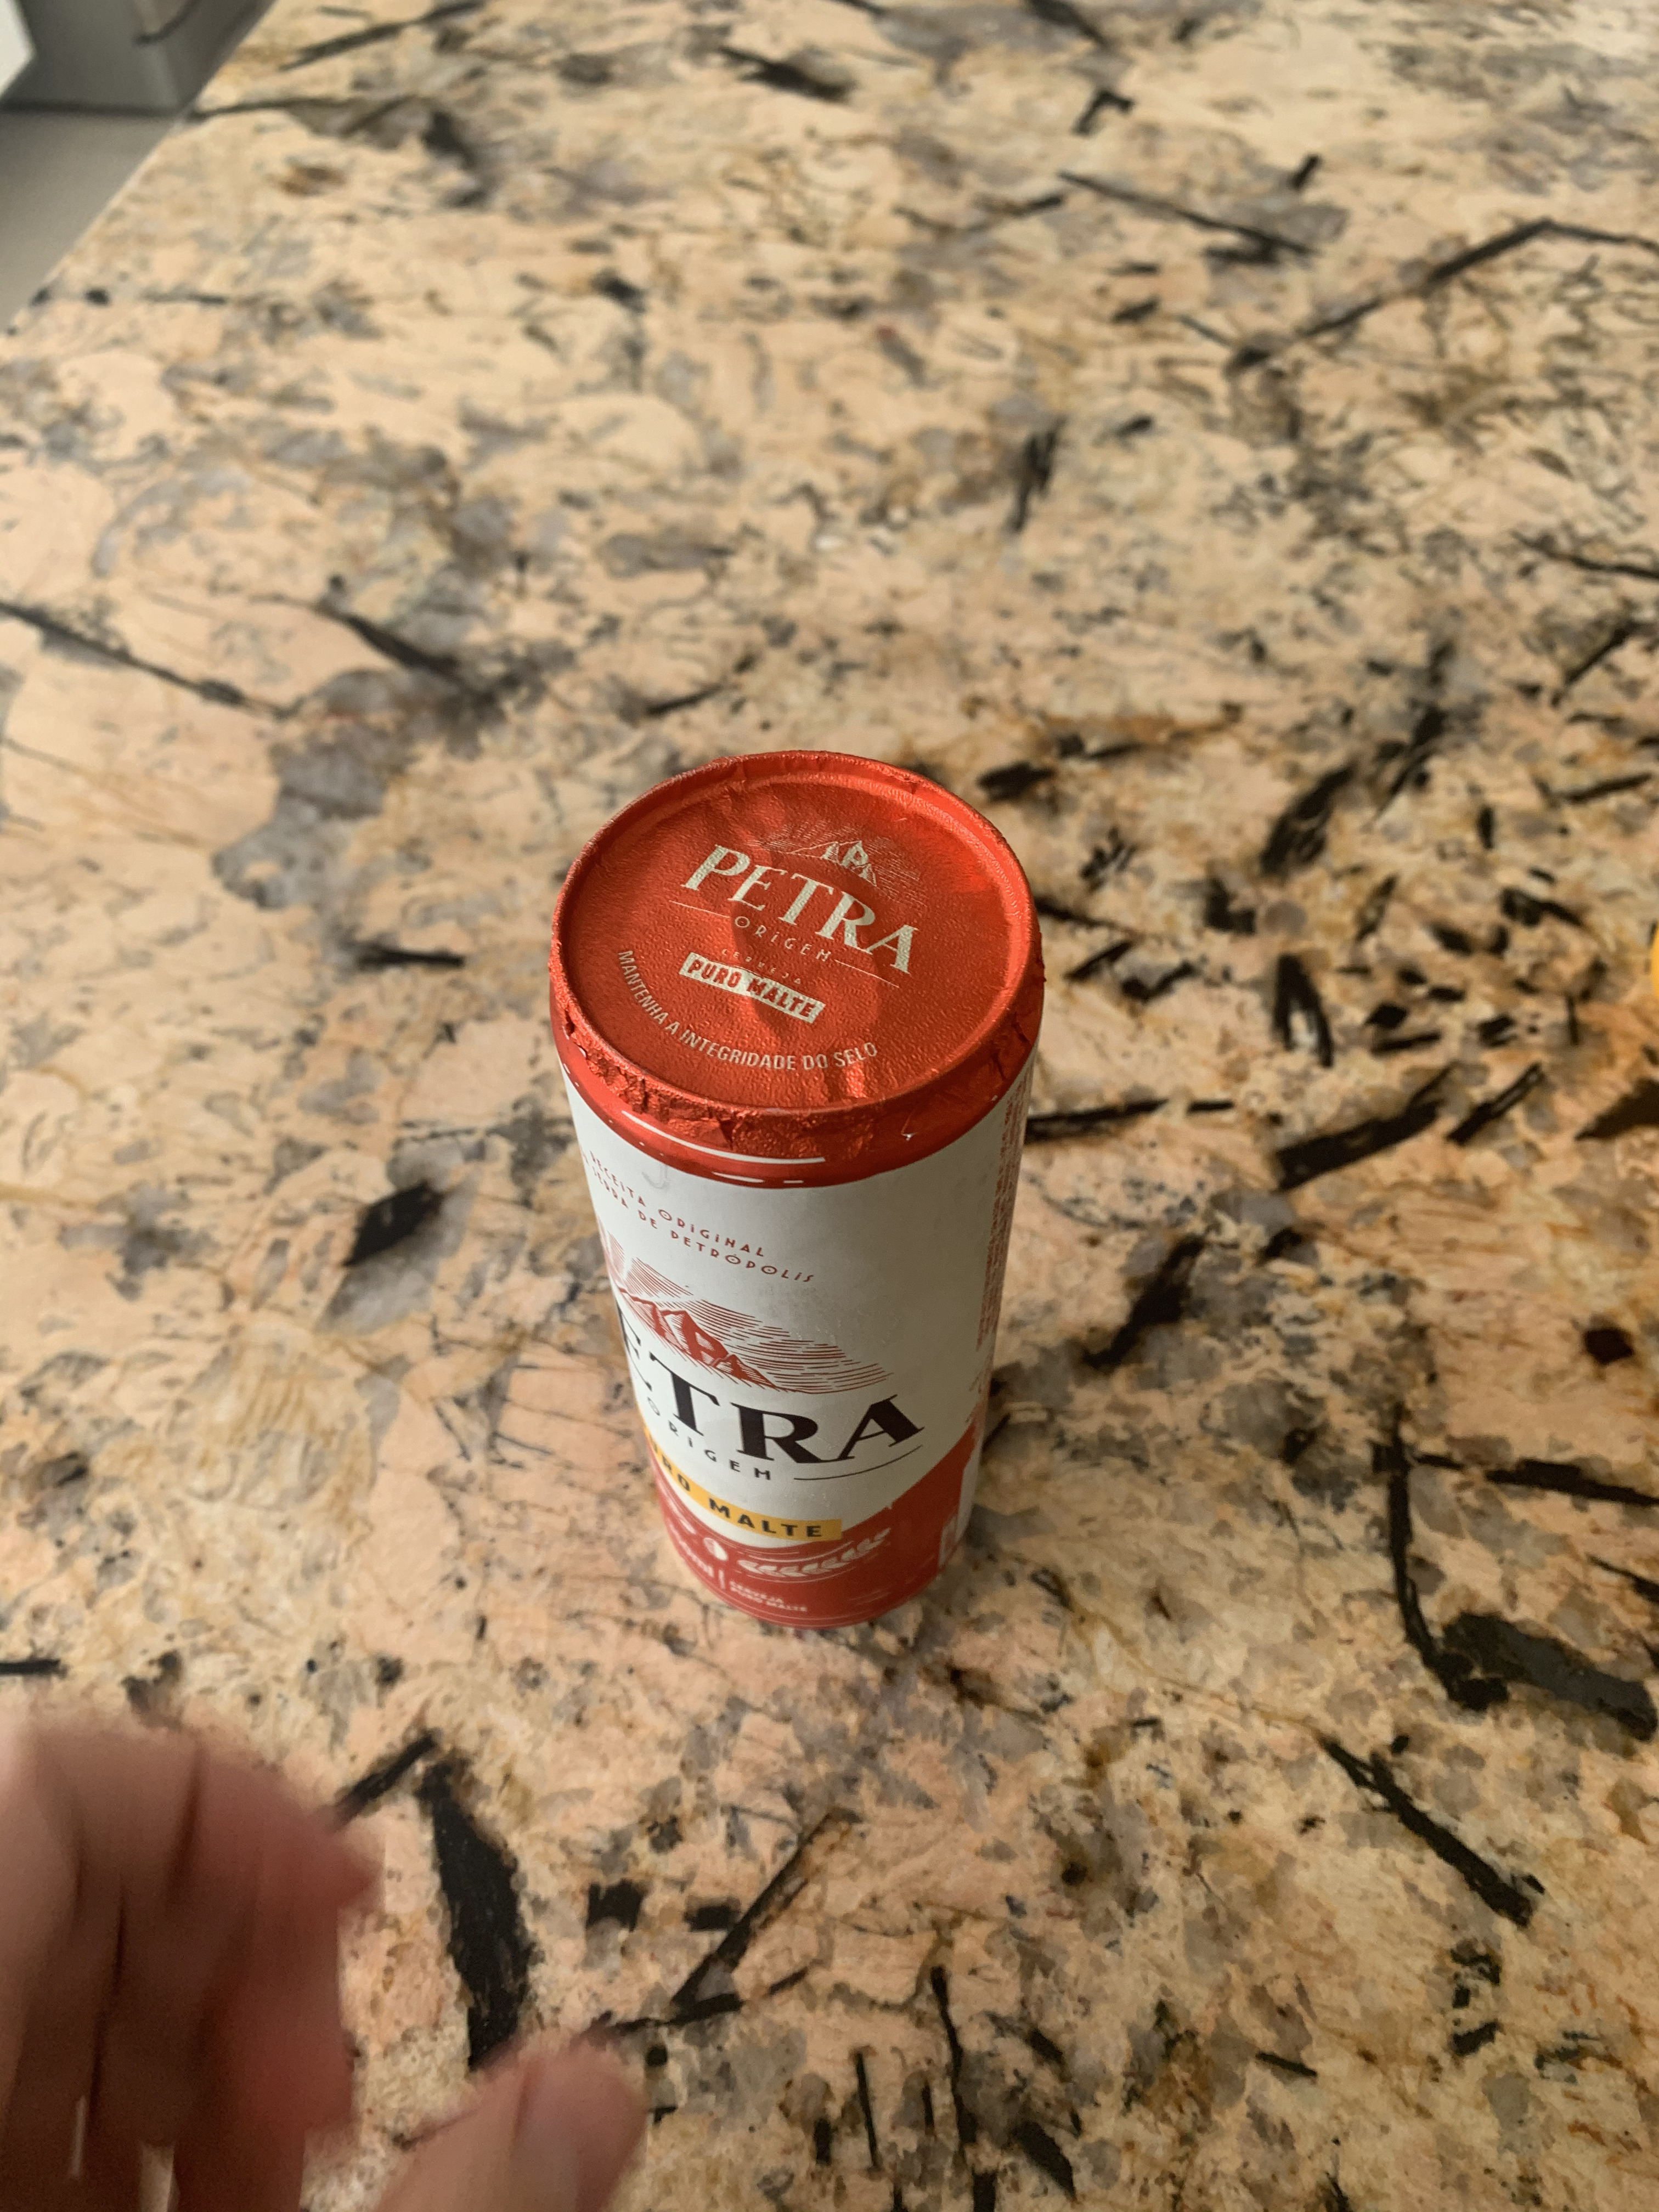petra: (500, 733, 1046, 1667)
